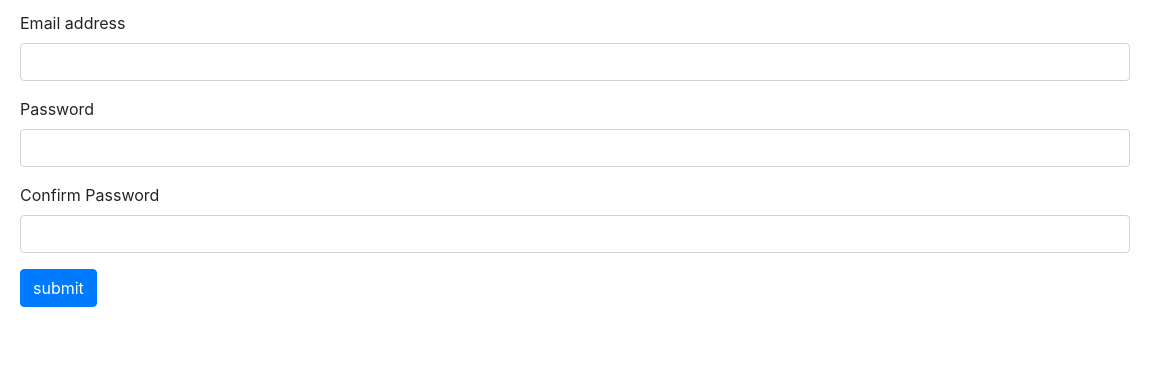
Test case: Login Form Component › should show password error if password is less than 5 characters
Step 1. Type "amir@gmail.com" into the field labelled "Email address" → (575, 62), box x1=20 y1=43 x2=1130 y2=81
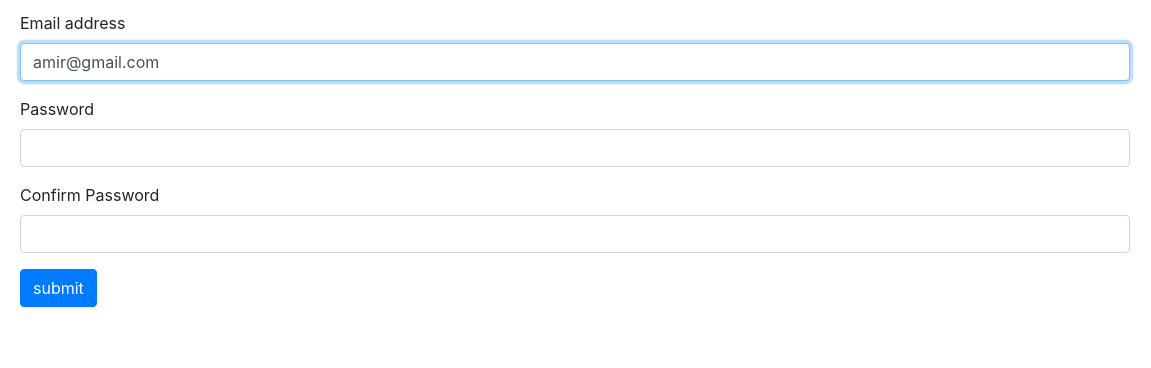
Step 2. Type "123" into the password field labelled "Password" → (575, 148), box x1=20 y1=129 x2=1130 y2=167
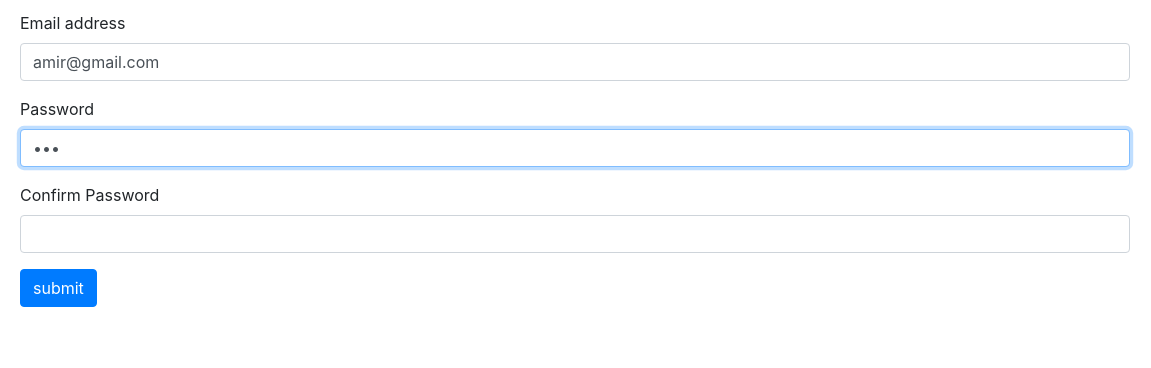
Step 3. Click the button "submit" → (58, 288), box x1=20 y1=269 x2=97 y2=307
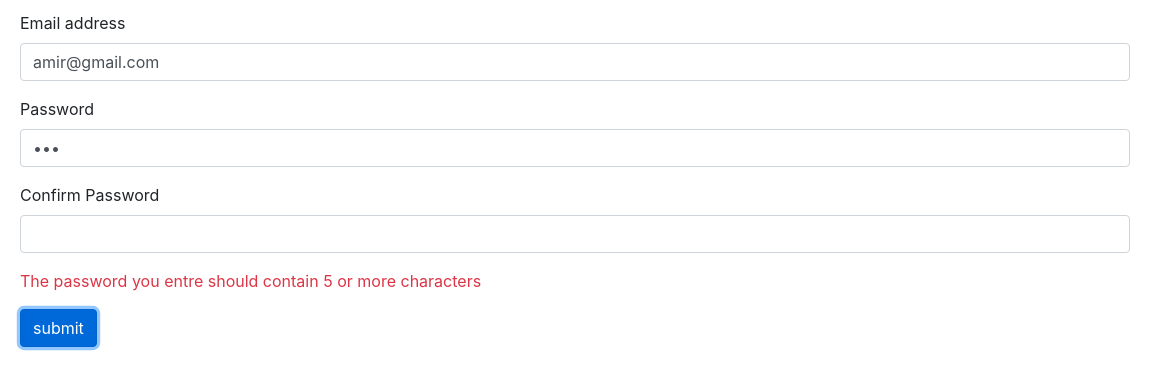
Expected: the text "The password you entre should contain 5 or more characters" is shown, x1=20 y1=271 x2=481 y2=291
